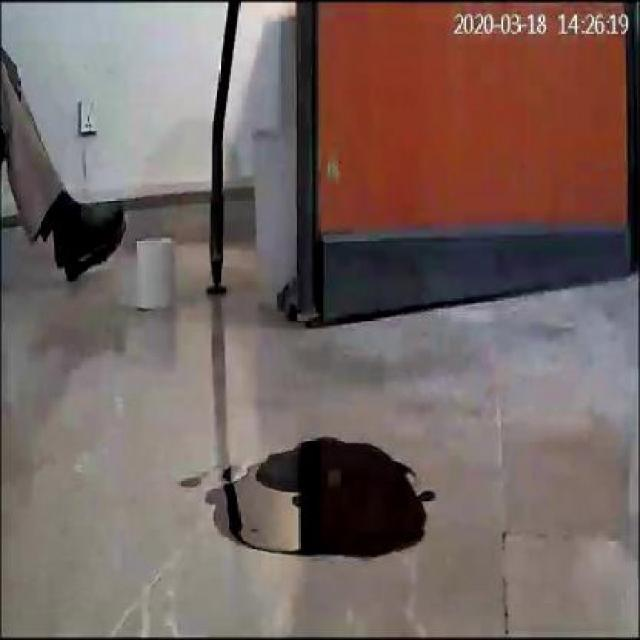spill: (210, 434, 432, 558)
